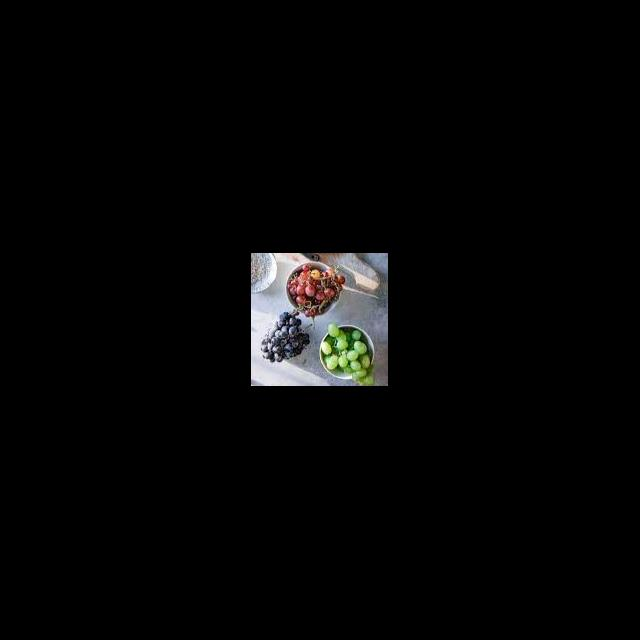grape: (260, 310, 310, 362), (291, 266, 337, 312), (328, 328, 369, 375)
